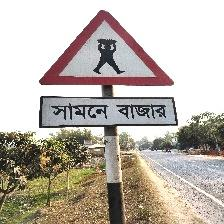Market-in-front: (37, 9, 178, 128)
